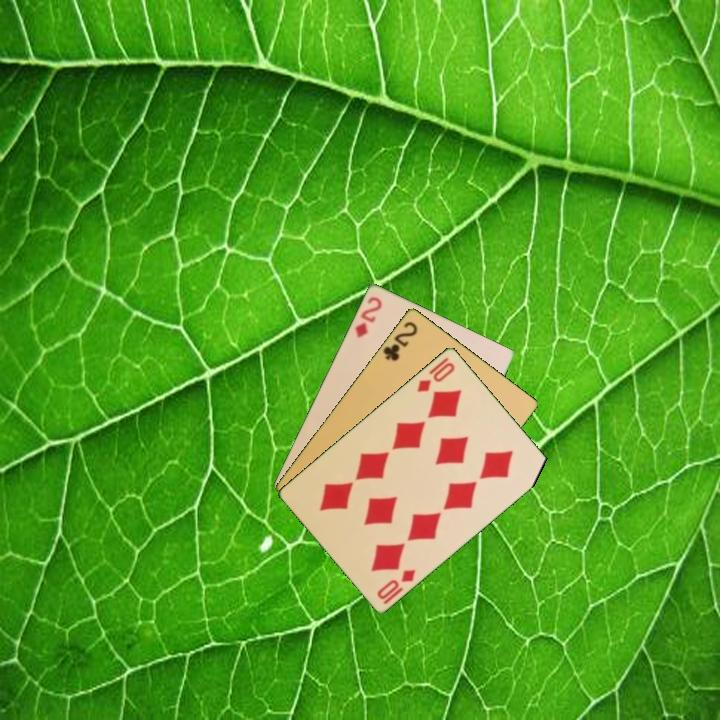10d: (373, 565, 419, 607), (413, 353, 458, 395)
2c: (379, 317, 420, 364)
2d: (351, 293, 385, 340)
